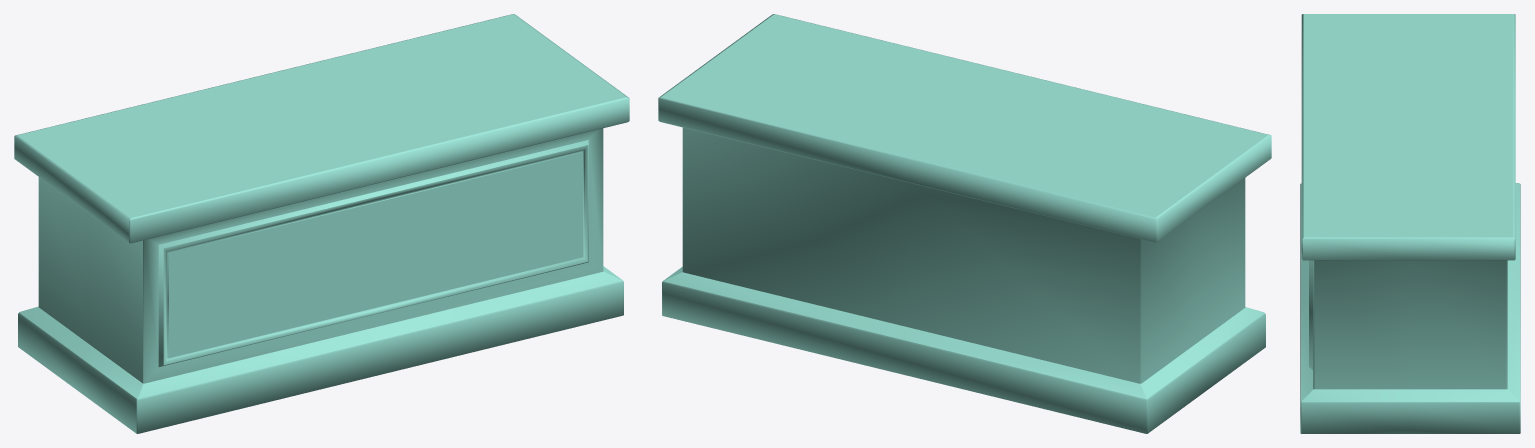
The model's file is st2_main_table.fbx.
3 views of the same model, side by side, from view 1: azimuth 30°, elevation 25°; view 2: azimuth 150°, elevation 25°; view 3: azimuth 270°, elevation 25° (orthographic). The views are drawn at different scales.
Visible parts, largest first — view 1: stage2_main_table; view 2: stage2_main_table; view 3: stage2_main_table.
Part boxes in pixels (left/top/right/bottom): stage2_main_table: left=14, top=14, right=629, bottom=433; stage2_main_table: left=658, top=14, right=1271, bottom=433; stage2_main_table: left=1300, top=14, right=1520, bottom=433.
Bounding box in the file's own units: 694 × 287 × 287.
